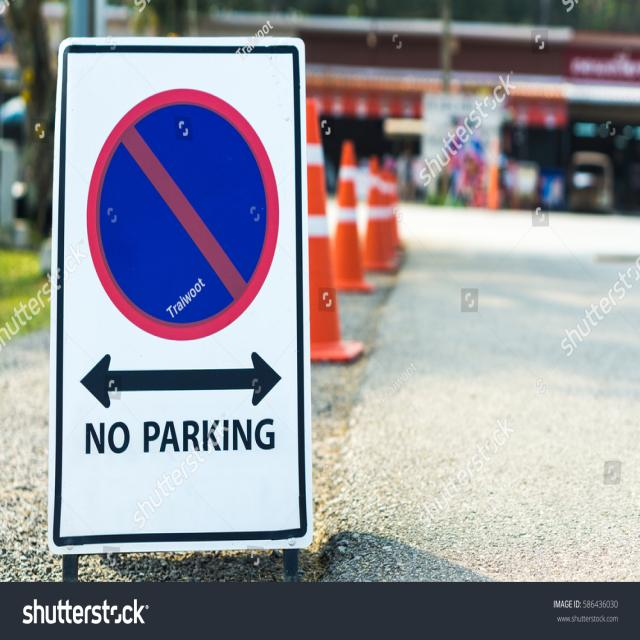Traffic sign: (76, 84, 291, 476)
